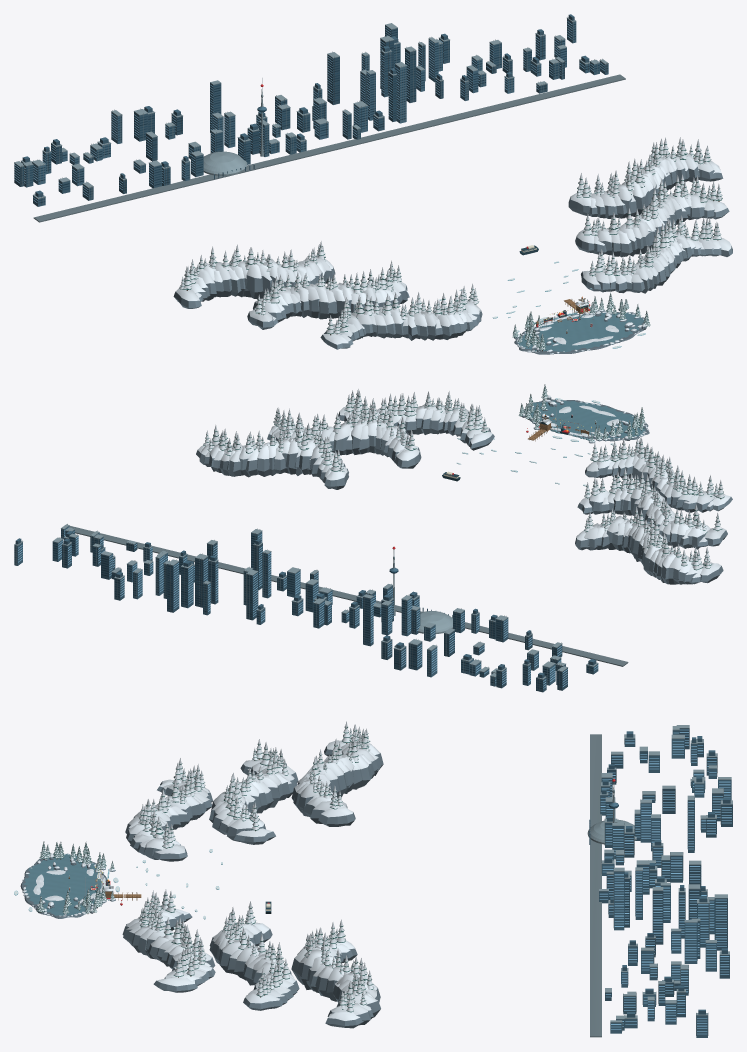
Rendered from lake-america.glb.
The picture shows the model from 3 angles, top to bottom: view 1: azimuth 30°, elevation 25°; view 2: azimuth 150°, elevation 25°; view 3: azimuth 270°, elevation 25°; orthographic projection. The views are drawn at different scales.
Visible parts, largest first — view 1: 04 Toronto skyline_city.003, 04 Toronto skyline_trim.003, 04 Toronto skyline_glass.003, 03 Headland -1 0_snow.003, 03 Headland 1 2_snow.003, 03 Headland 1 0_snow.003, 03 Headland -1 1_snow.003, 03 Headland -1 2_snow.003, 03 Headland 1 1_snow.003, 04 Toronto skyline_window.003, 01 Fighting shelf_slate.003, 03 Headland -1 0_rock.003 (+13 smaller); view 2: 04 Toronto skyline_city.003, 04 Toronto skyline_trim.003, 04 Toronto skyline_glass.003, 03 Headland 1 2_snow.003, 03 Headland -1 0_snow.003, 03 Headland -1 1_snow.003, 03 Headland -1 2_snow.003, 03 Headland 1 0_snow.003, 03 Headland 1 1_snow.003, 04 Toronto skyline_window.003, 03 Headland 1 2_rock.003, 01 Fighting shelf_slate.003 (+13 smaller); view 3: 04 Toronto skyline_city.003, 04 Toronto skyline_trim.003, 04 Toronto skyline_window.003, 03 Headland 1 2_snow.003, 03 Headland 1 0_snow.003, 03 Headland 1 1_snow.003, 03 Headland -1 1_snow.003, 03 Headland -1 2_snow.003, 03 Headland -1 0_snow.003, 01 Fighting shelf_slate.003, 03 Headland -1 2_rock.003, 03 Headland 1 2_rock.003 (+12 smaller).
Boxes of the visible parts, <box> form: 04 Toronto skyline_city.003: <box>14,14,608,206</box>; 04 Toronto skyline_trim.003: <box>14,17,625,222</box>; 04 Toronto skyline_glass.003: <box>20,23,608,203</box>; 03 Headland -1 0_snow.003: <box>323,283,480,344</box>; 03 Headland 1 2_snow.003: <box>570,137,721,207</box>; 03 Headland 1 0_snow.003: <box>582,215,731,284</box>; 03 Headland -1 1_snow.003: <box>249,260,407,321</box>; 03 Headland -1 2_snow.003: <box>175,241,333,300</box>; 03 Headland 1 1_snow.003: <box>577,174,727,245</box>; 04 Toronto skyline_window.003: <box>14,21,604,202</box>; 01 Fighting shelf_slate.003: <box>517,312,644,352</box>; 03 Headland -1 0_rock.003: <box>320,310,482,349</box>; 04 Toronto skyline_city.003: <box>14,526,598,692</box>; 04 Toronto skyline_trim.003: <box>14,524,628,689</box>; 04 Toronto skyline_glass.003: <box>14,530,593,689</box>; 03 Headland 1 2_snow.003: <box>198,423,347,480</box>; 03 Headland -1 0_snow.003: <box>586,437,730,506</box>; 03 Headland -1 1_snow.003: <box>579,468,725,542</box>; 03 Headland -1 2_snow.003: <box>576,506,721,577</box>; 03 Headland 1 0_snow.003: <box>340,389,492,444</box>; 03 Headland 1 1_snow.003: <box>269,407,419,460</box>; 04 Toronto skyline_window.003: <box>18,530,598,688</box>; 03 Headland 1 2_rock.003: <box>196,450,348,489</box>; 01 Fighting shelf_slate.003: <box>529,400,645,439</box>; 04 Toronto skyline_city.003: <box>599,728,732,1037</box>; 04 Toronto skyline_trim.003: <box>590,725,732,1037</box>; 04 Toronto skyline_window.003: <box>599,729,731,1034</box>; 03 Headland 1 2_snow.003: <box>294,919,377,1020</box>; 03 Headland 1 0_snow.003: <box>126,889,212,986</box>; 03 Headland 1 1_snow.003: <box>212,901,296,1003</box>; 03 Headland -1 1_snow.003: <box>212,739,295,836</box>; 03 Headland -1 2_snow.003: <box>294,721,380,817</box>; 03 Headland -1 0_snow.003: <box>128,758,210,853</box>; 01 Fighting shelf_slate.003: <box>23,853,101,915</box>; 03 Headland -1 2_rock.003: <box>291,746,383,826</box>; 03 Headland 1 2_rock.003: <box>291,948,380,1028</box>.
Bounding box in the file's own units: 238 × 34.22 × 239.
